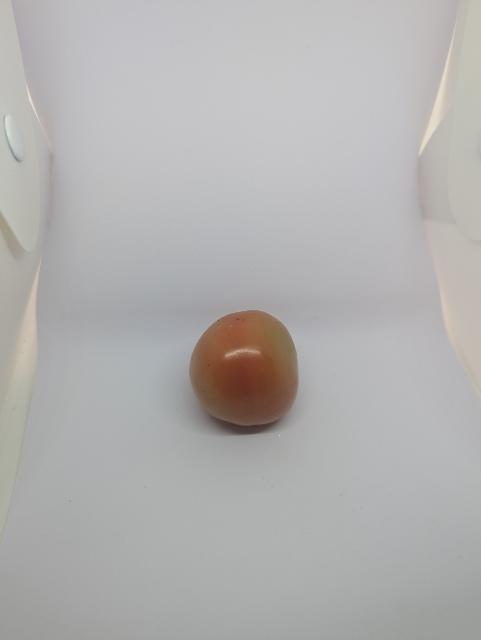turning: (184, 300, 308, 433)
